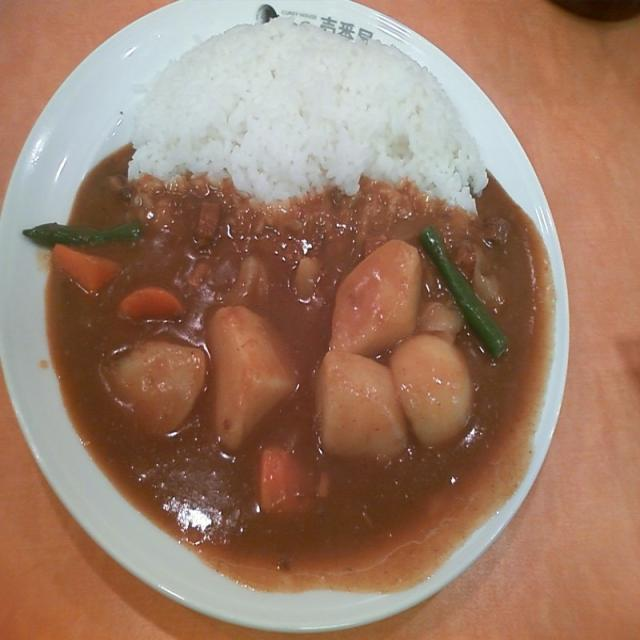Beef Curry: (36, 179, 572, 574)
Rice: (106, 17, 489, 192)
